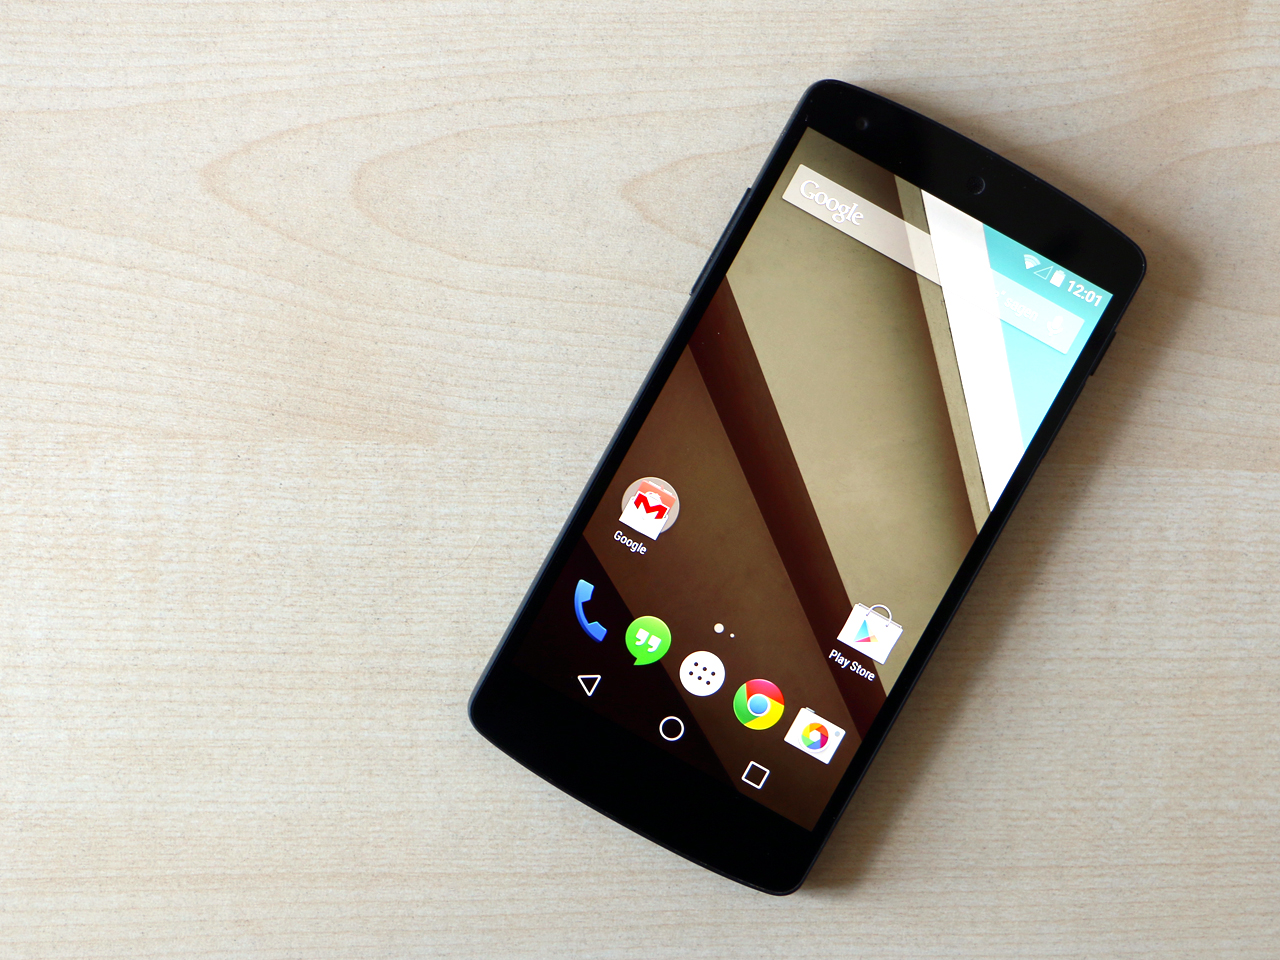smartphone: (466, 77, 1147, 897)
